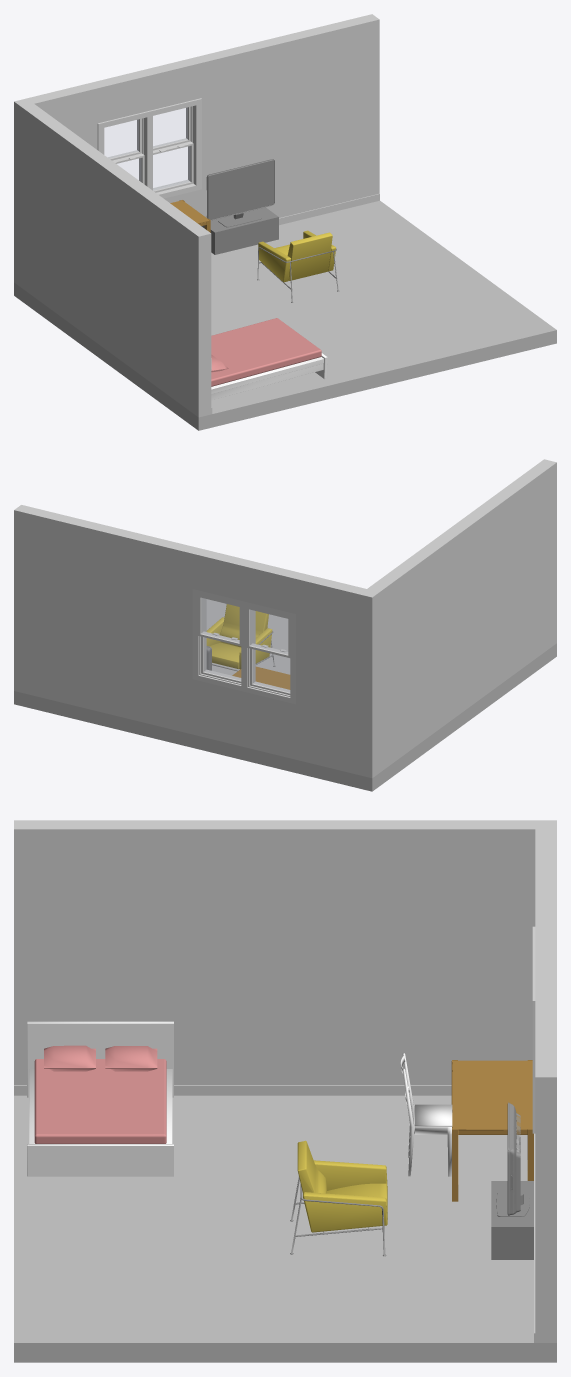
File: L16_W18_furniture3_daylight1.glb
The picture shows the model from 3 angles, top to bottom: view 1: azimuth 30°, elevation 25°; view 2: azimuth 150°, elevation 25°; view 3: azimuth 270°, elevation 25°; orthographic projection. The views are drawn at different scales.
Size of the model in its own units: 224 by 116 by 200.
